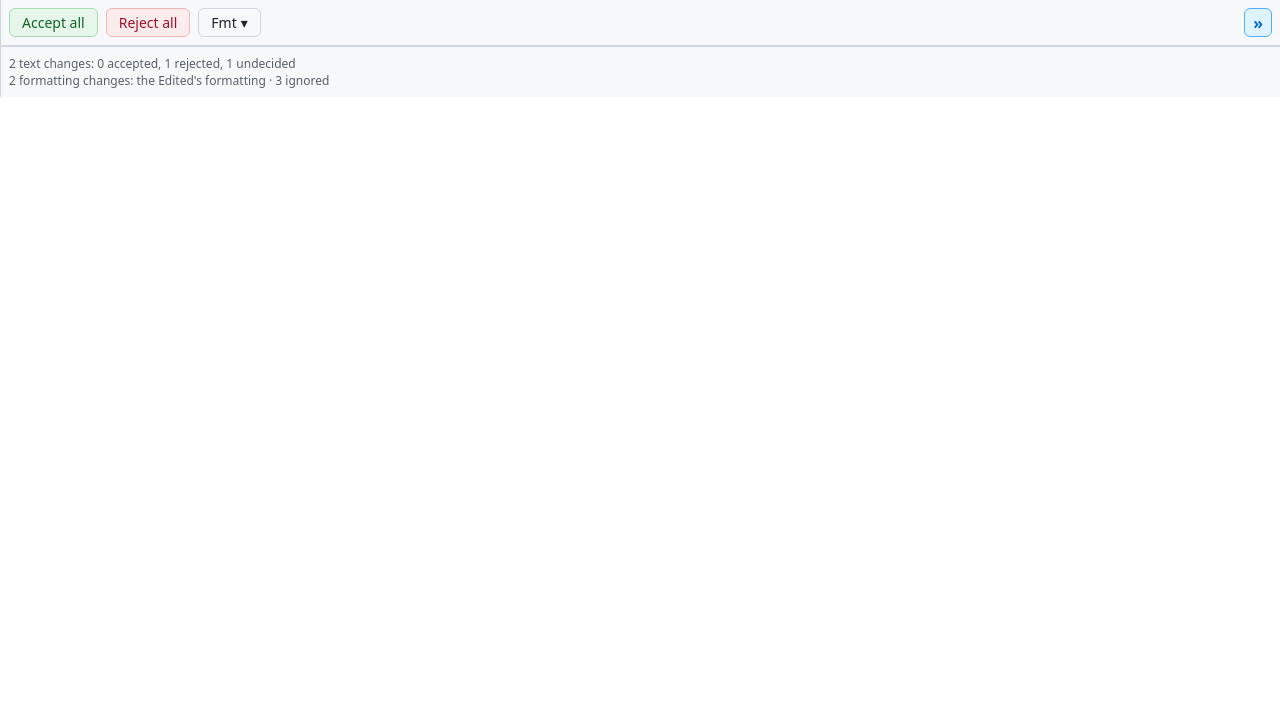
Scenario: ChangesList › asks before deciding all undecided changes
The image size is (1280, 720).
Click the button "Reject all" at [148, 22], box 106,8 -> 190,37
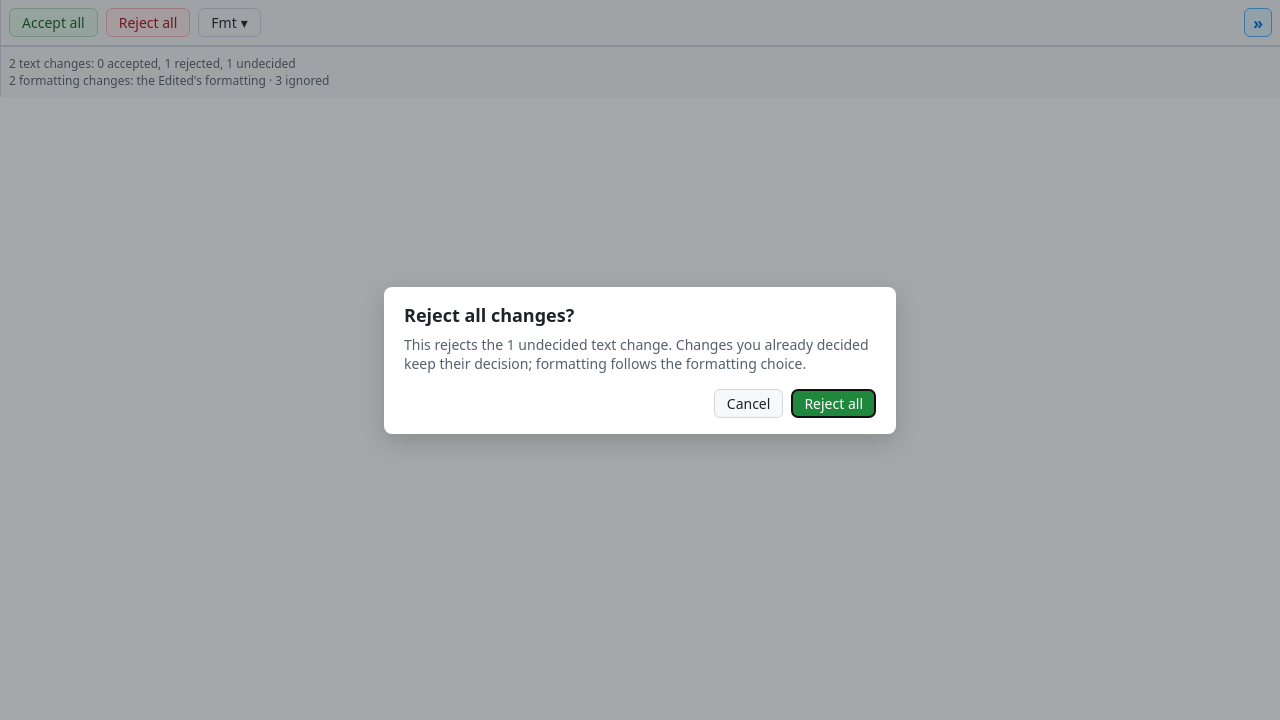
Result: the dialog "Reject all changes?" shows "rejects the 1 undecided text change." at 384,286 -> 896,434
Click the button "Cancel" at [749, 403], box 714,388 -> 783,418
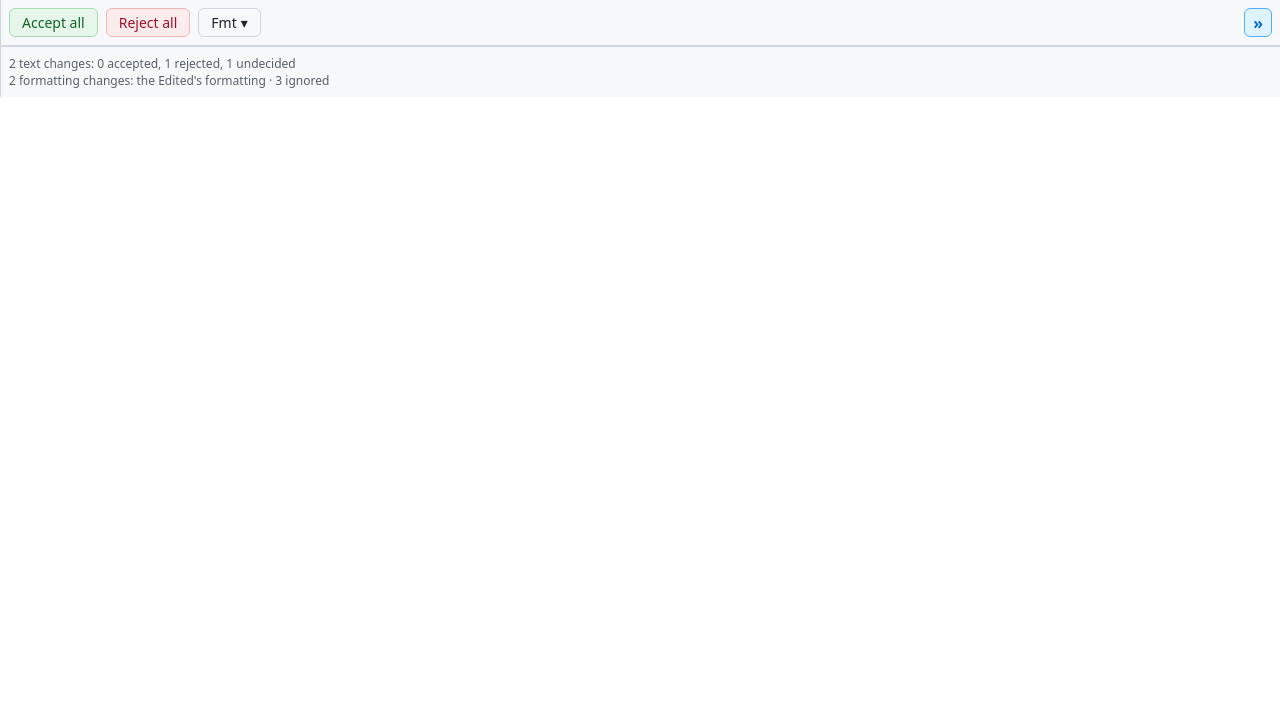
Click the button "Accept all" at [53, 22], box 9,8 -> 98,37
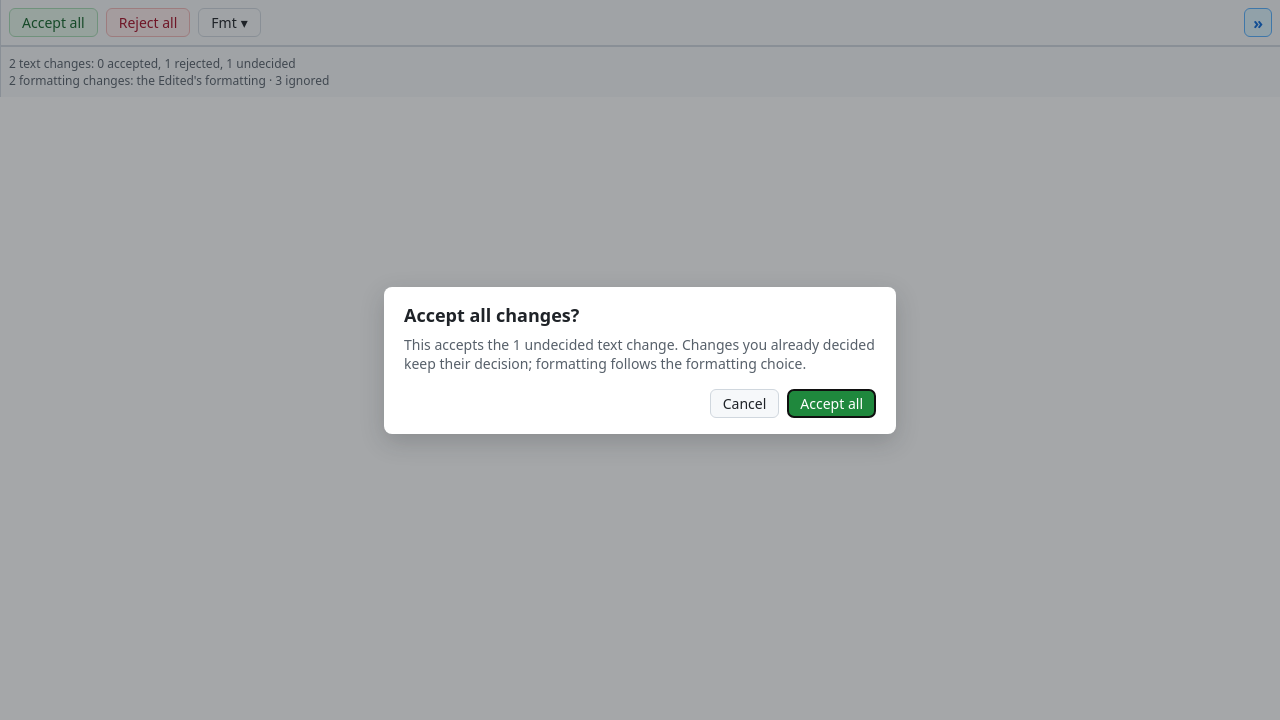
Click the button "Accept all" at [832, 403], box 787,388 -> 876,418
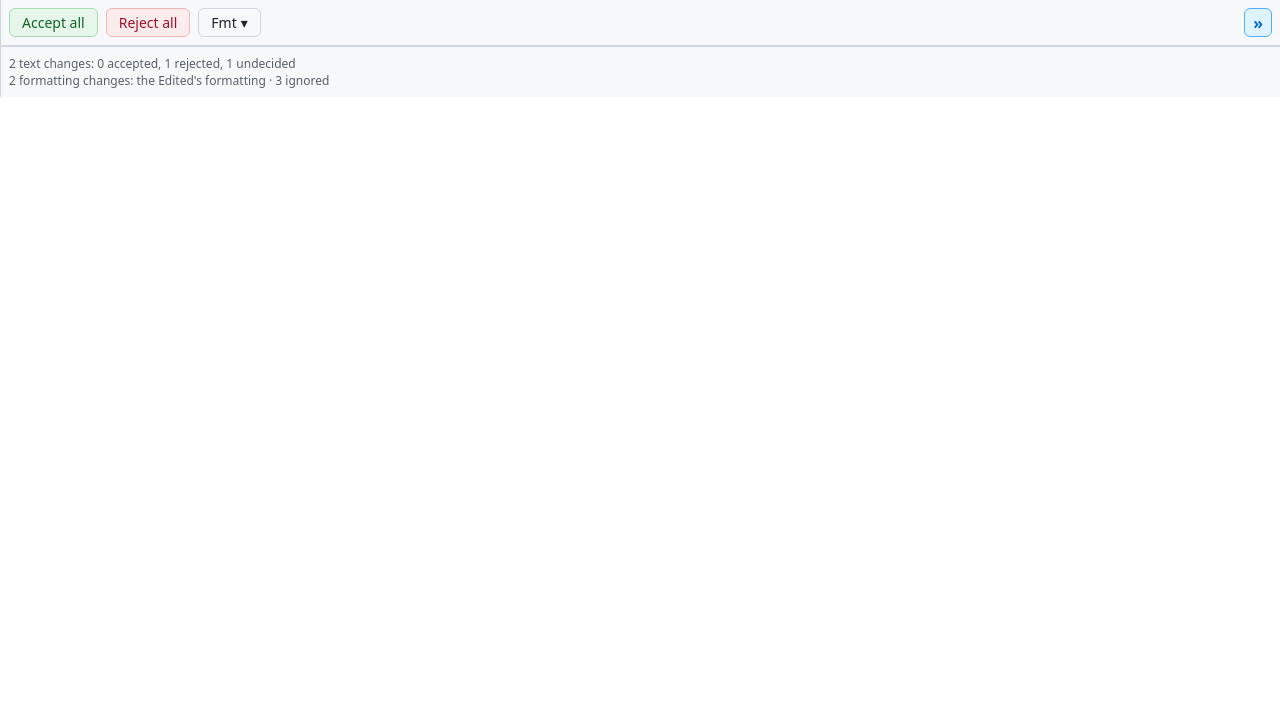
Result: the dialog is gone
